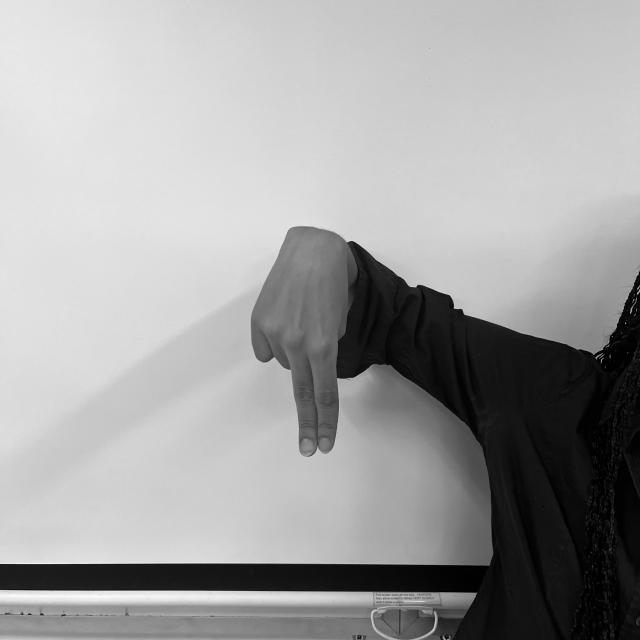Letra N: (249, 218, 352, 459)
